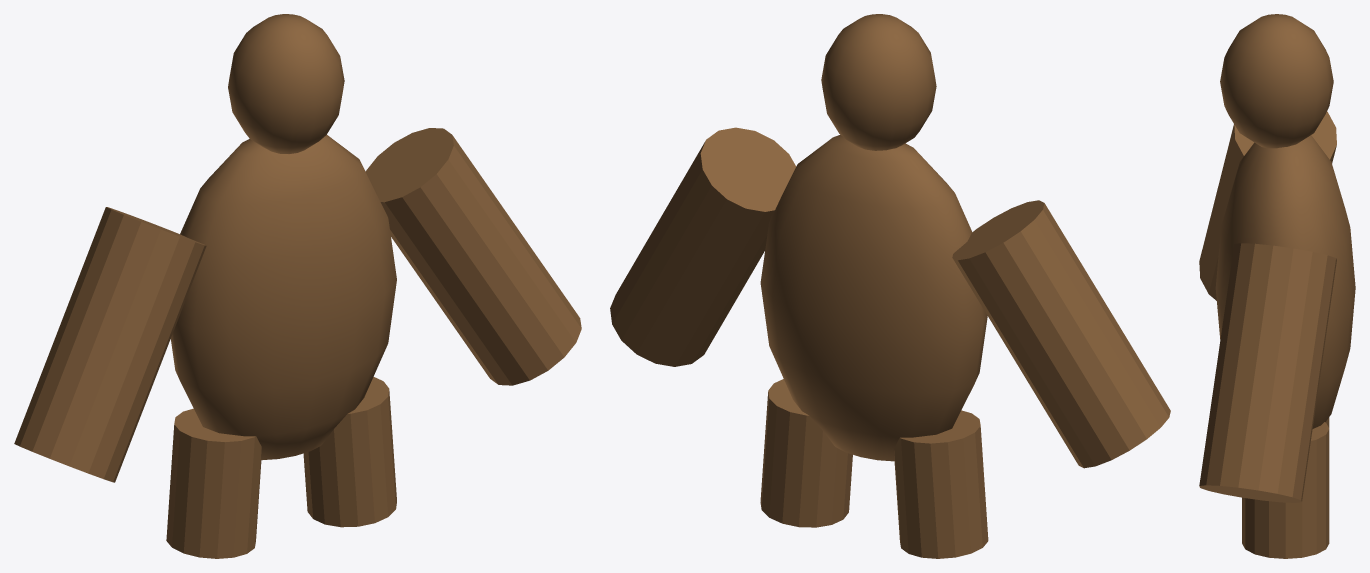
Rendered from Hashirama_Skill2.fbx.
3 views of the same model, side by side, from view 1: azimuth 30°, elevation 25°; view 2: azimuth 150°, elevation 25°; view 3: azimuth 270°, elevation 25° (orthographic). The views are drawn at different scales.
Parts seen in each view (by area): view 1: WoodGolemTorso, GolemArm.001, GolemArm, WoodGolemHead, GolemLeg, GolemLeg.001; view 2: WoodGolemTorso, GolemArm, GolemArm.001, WoodGolemHead, GolemLeg, GolemLeg.001; view 3: GolemArm.001, WoodGolemTorso, WoodGolemHead, GolemLeg.001, GolemArm.
Part boxes in pixels (x1,y1,x2,y2): WoodGolemTorso: (171,135,396,460); GolemArm.001: (365,128,581,385); GolemArm: (14,207,206,482); WoodGolemHead: (228,14,344,153); GolemLeg: (166,408,261,558); GolemLeg.001: (303,377,396,527); WoodGolemTorso: (760,134,987,461); GolemArm: (952,200,1170,468); GolemArm.001: (610,127,796,366); WoodGolemHead: (821,14,936,150); GolemLeg: (894,410,988,558); GolemLeg.001: (760,379,852,527); GolemArm.001: (1199,243,1336,502); WoodGolemTorso: (1215,135,1355,428); WoodGolemHead: (1220,14,1333,148); GolemLeg.001: (1242,422,1329,558); GolemArm: (1199,111,1336,300).
Bounding box in the file's own units: 352 × 312 × 89.35.
